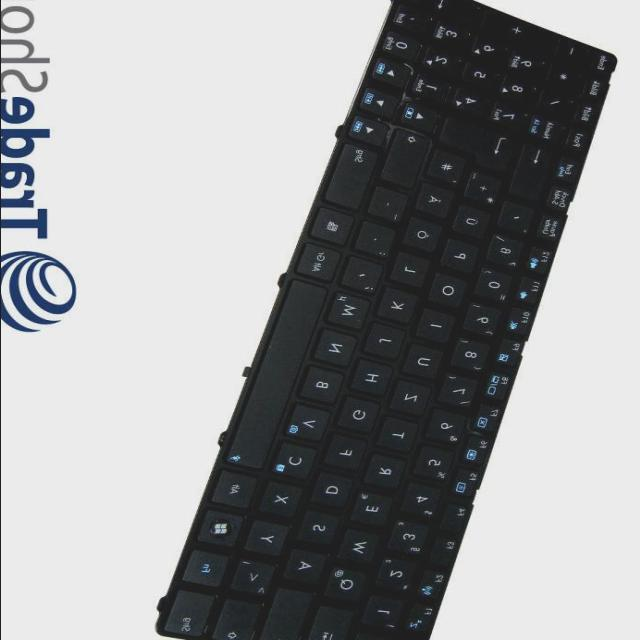0: (476, 268, 515, 306)
1: (363, 595, 407, 632)
2: (376, 558, 420, 594)
3: (389, 519, 433, 559)
4: (403, 482, 445, 521)
5: (415, 446, 457, 484)
6: (429, 410, 469, 448)
7: (441, 374, 480, 411)
8: (452, 338, 492, 375)
9: (464, 302, 503, 340)
a: (283, 548, 330, 586)
accent: (500, 202, 537, 238)
ae: (416, 183, 458, 221)
alt-left: (213, 471, 262, 511)
altgr-right: (298, 244, 342, 284)
b: (301, 366, 347, 408)
c: (274, 442, 320, 482)
caret: (350, 625, 396, 640)
comma: (342, 258, 386, 298)
d: (312, 472, 358, 510)
del: (508, 145, 554, 203)
e: (352, 492, 396, 530)
enter: (441, 119, 515, 175)
f: (325, 435, 371, 473)
g: (339, 396, 383, 436)
h: (352, 360, 396, 400)
hash: (428, 150, 468, 188)
i: (419, 309, 459, 346)
j: (365, 324, 409, 362)
k: (378, 288, 422, 326)
keyboard: (143, 0, 626, 640)
l: (391, 253, 435, 290)
less: (232, 560, 279, 598)
m: (329, 293, 373, 333)
minus: (369, 187, 411, 227)
n: (316, 330, 360, 370)
o: (429, 273, 469, 309)
oe: (404, 217, 446, 254)
p: (440, 240, 480, 276)
plus: (465, 172, 505, 210)
point: (356, 222, 398, 262)
q: (325, 566, 371, 606)
r: (366, 454, 410, 491)
s: (297, 510, 343, 548)
shift-left: (212, 599, 266, 640)
shift-lock: (258, 588, 317, 640)
shift-right: (381, 129, 433, 192)
space: (224, 279, 336, 473)
ss: (489, 234, 526, 270)
strg-left: (163, 589, 217, 640)
strg-right: (326, 142, 380, 212)
t: (378, 417, 424, 454)
tab: (304, 606, 358, 640)
u: (403, 344, 447, 382)
ue: (453, 205, 493, 241)
v: (288, 404, 334, 444)
w: (340, 530, 384, 568)
x: (260, 482, 306, 520)
y: (246, 521, 292, 559)
z: (391, 381, 435, 419)
